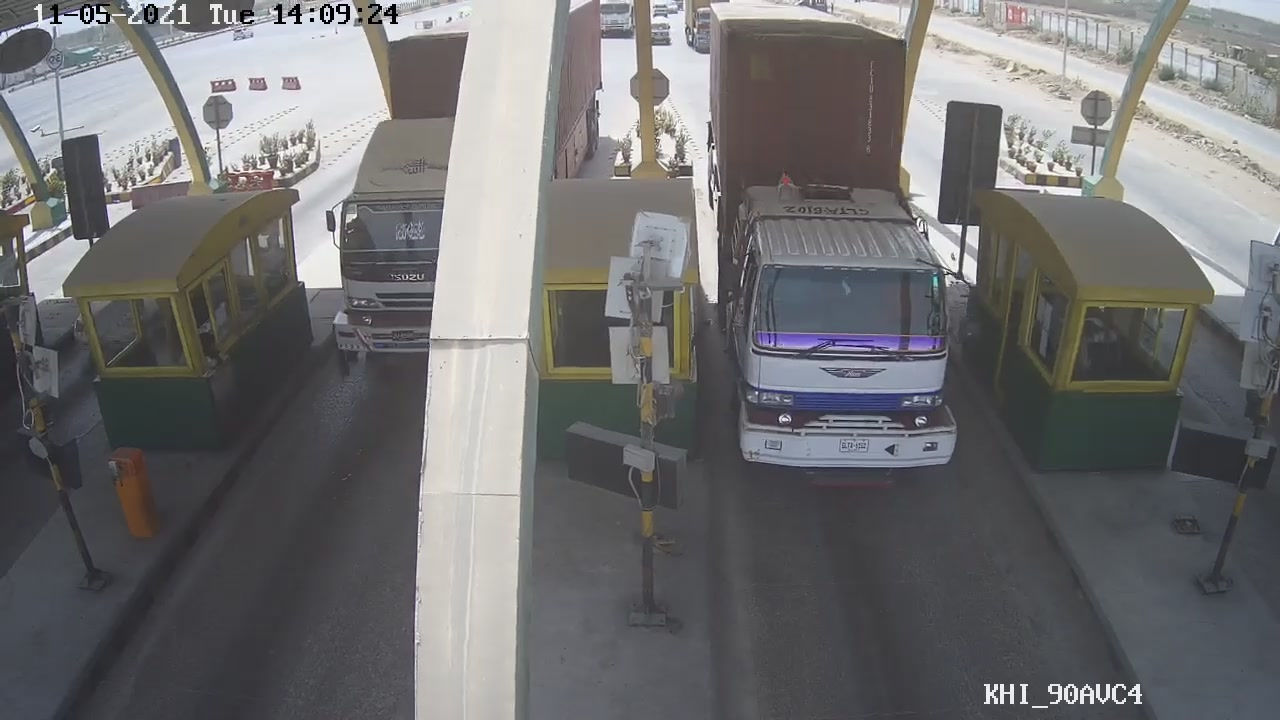F6: (697, 3, 997, 483)
